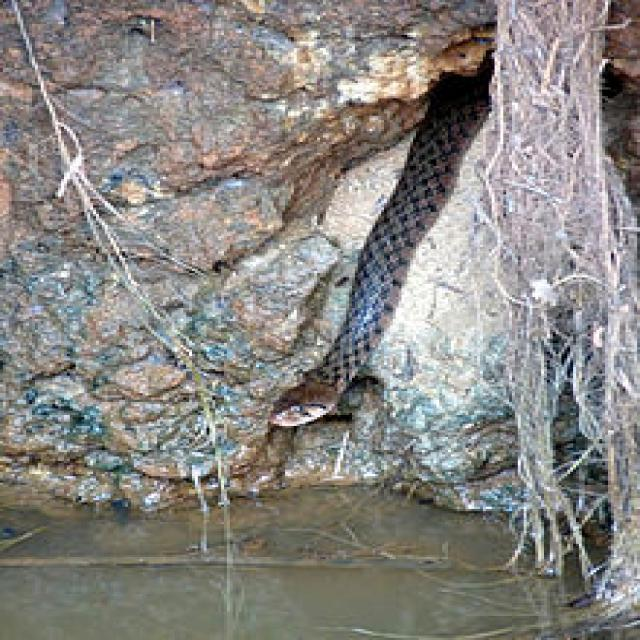Snake: (264, 29, 498, 428)
